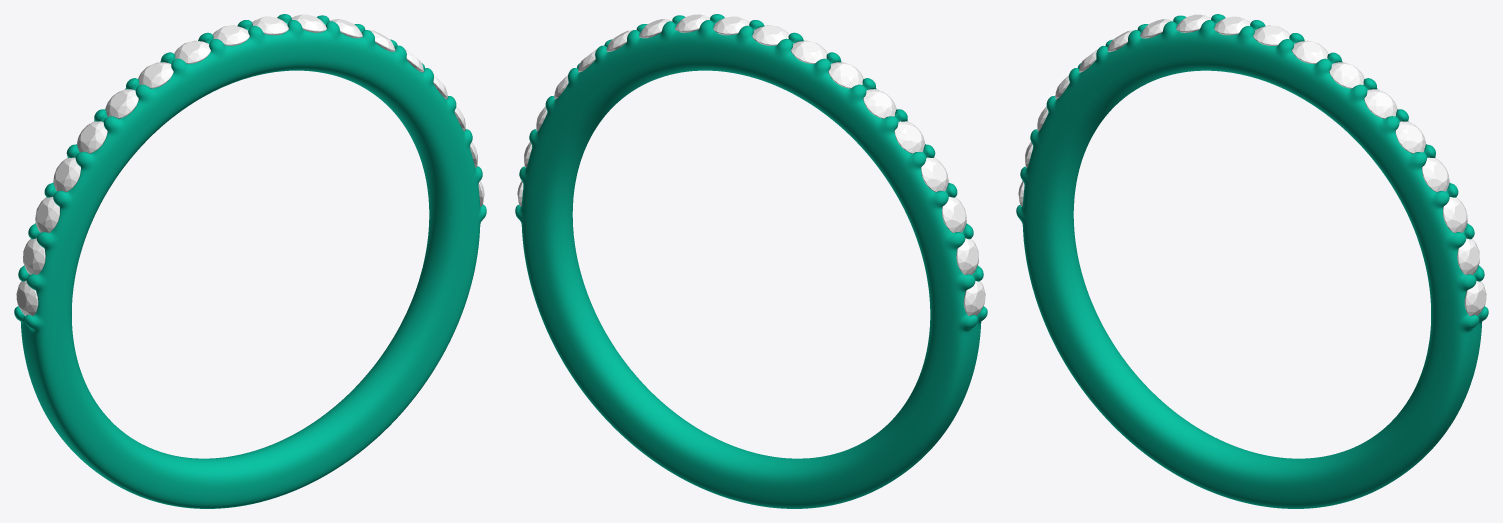
The model's file is BE2PD25R25_RENDER.glb.
3 views of the same model, side by side, from view 1: azimuth 30°, elevation 25°; view 2: azimuth 150°, elevation 25°; view 3: azimuth 330°, elevation 25° (orthographic).
Parts seen in each view (by area): view 1: Metal03, Diamond_Round_Gem_BD.004, Diamond_Round_Gem_BD.003, Diamond_Round_Gem_BD.005, Diamond_Round_Gem_BD.002, Diamond_Round_Gem_BD.006, Diamond_Round_Gem_BD.001, Diamond_Round_Gem_BD.007, Diamond_Round_Gem_BD, Diamond_Round_Gem_BD.008; view 2: Metal03, Diamond_Round_Gem_BD.004, Diamond_Round_Gem_BD.003, Diamond_Round_Gem_BD.005, Diamond_Round_Gem_BD.002, Diamond_Round_Gem_BD.006, Diamond_Round_Gem_BD.001, Diamond_Round_Gem_BD.007, Diamond_Round_Gem_BD, Diamond_Round_Gem_BD.008; view 3: Metal03, Diamond_Round_Gem_BD.013, Diamond_Round_Gem_BD.014, Diamond_Round_Gem_BD.012, Diamond_Round_Gem_BD.015, Diamond_Round_Gem_BD.011, Diamond_Round_Gem_BD.016, Diamond_Round_Gem_BD.010, Diamond_Round_Gem_BD.017, Diamond_Round_Gem_BD.009.
Boxes of the visible parts, x1,y1,x2,y2 form: Metal03: (14,14,486,508); Diamond_Round_Gem_BD.004: (77,121,107,153); Diamond_Round_Gem_BD.003: (53,157,80,192); Diamond_Round_Gem_BD.005: (105,89,138,118); Diamond_Round_Gem_BD.002: (35,196,59,232); Diamond_Round_Gem_BD.006: (138,62,173,88); Diamond_Round_Gem_BD.001: (23,238,45,274); Diamond_Round_Gem_BD.007: (174,40,210,63); Diamond_Round_Gem_BD: (16,280,38,315); Diamond_Round_Gem_BD.008: (212,25,249,45); Metal03: (515,14,987,508); Diamond_Round_Gem_BD.004: (894,121,924,153); Diamond_Round_Gem_BD.003: (921,157,948,192); Diamond_Round_Gem_BD.005: (863,89,896,118); Diamond_Round_Gem_BD.002: (942,196,966,232); Diamond_Round_Gem_BD.006: (828,62,863,88); Diamond_Round_Gem_BD.001: (956,238,978,274); Diamond_Round_Gem_BD.007: (791,40,827,63); Diamond_Round_Gem_BD: (963,281,985,315); Diamond_Round_Gem_BD.008: (752,25,789,45); Metal03: (1016,14,1488,508); Diamond_Round_Gem_BD.013: (1395,121,1425,153); Diamond_Round_Gem_BD.014: (1422,157,1449,192); Diamond_Round_Gem_BD.012: (1364,89,1397,118); Diamond_Round_Gem_BD.015: (1443,197,1467,232); Diamond_Round_Gem_BD.011: (1329,62,1364,88); Diamond_Round_Gem_BD.016: (1457,238,1479,274); Diamond_Round_Gem_BD.010: (1292,40,1328,63); Diamond_Round_Gem_BD.017: (1464,281,1486,315); Diamond_Round_Gem_BD.009: (1253,25,1290,45).
Bounding box in the file's own units: 20.87 × 20.58 × 1.8.
